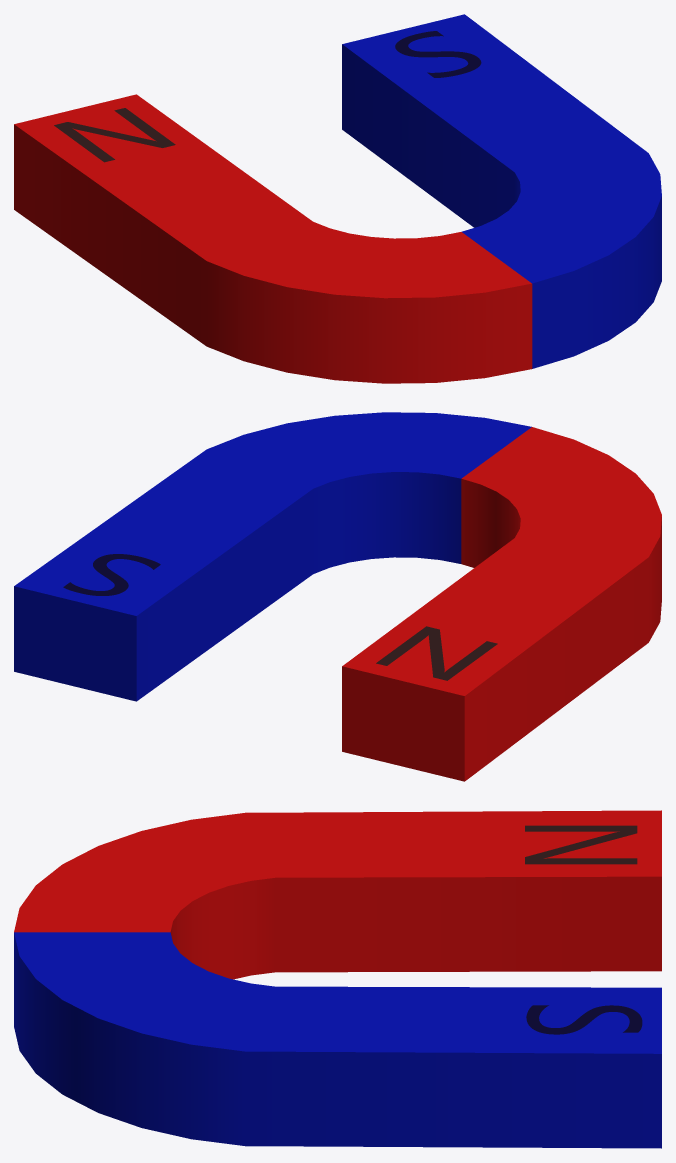
File: magnet_U.FBX
3 renders of one model, top to bottom at view 1: azimuth 30°, elevation 25°; view 2: azimuth 150°, elevation 25°; view 3: azimuth 270°, elevation 25°, orthographic. The views are drawn at different scales.
Visible parts, largest first — view 1: Text003; view 2: Text003; view 3: Text003.
Part boxes in pixels (box(x1,y1,x2,y2)): Text003: box(14, 14, 661, 383); Text003: box(14, 412, 661, 781); Text003: box(14, 810, 661, 1148).
Bounding box in the file's own units: 1.74 × 0.3168 × 1.95.
